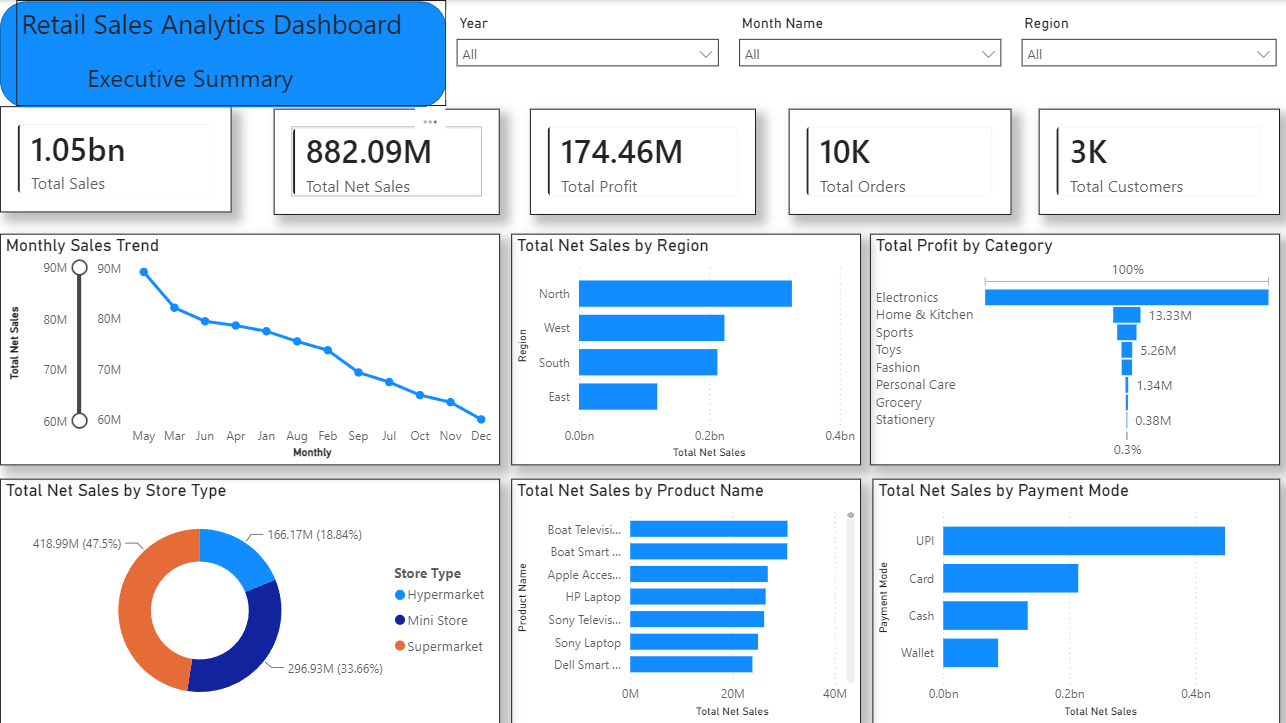

The page's visual inventory and layout, read from the dashboard file:
{"tool":"powerbi","page":{"name":"Page 1","canvas":[1280,720],"ordinal":0},"visuals":[{"type":"cardVisual","fields":{"Data":["Sales.Total Sales"]},"box":[0,105.7,230.1,105.7],"z":0},{"type":"cardVisual","fields":{"Data":["Sales.Total Net Sales"]},"box":[272.4,108.2,225.2,105.7],"z":1000},{"type":"cardVisual","fields":{"Data":["Sales.Total Customers"]},"box":[1033.7,108.2,240.1,105.7],"z":2000},{"type":"cardVisual","fields":{"Data":["Sales.Total Orders"]},"box":[784.9,108.2,221.4,105.7],"z":3000},{"type":"cardVisual","fields":{"Data":["Sales.Total Profit"]},"box":[527.4,108.2,225.2,105.7],"z":4000},{"type":"shape","box":[0,1.2,444.1,105.7],"z":5000},{"type":"textbox","box":[16.2,0,427.9,105.7],"z":6000},{"type":"funnel","fields":{"Category":["Products.Category"],"Y":["Sales.Total Profit"]},"box":[865.8,232.6,408,230.1],"z":7000},{"type":"clusteredBarChart","fields":{"Y":["Sales.Total Net Sales"],"Category":["Stores.Region"]},"box":[508.8,232.6,348.3,230.1],"z":8000},{"type":"clusteredBarChart","fields":{"Y":["Sales.Total Net Sales"],"Category":["Sales.Payment Mode"]},"box":[868.3,476.4,405.5,243.8],"z":9000},{"type":"clusteredBarChart","fields":{"Y":["Sales.Total Net Sales"],"Category":["Products.Product Name"]},"box":[508.8,476.4,348.3,243.8],"z":10000},{"type":"donutChart","fields":{"Y":["Sales.Total Net Sales"],"Series":["Stores.Store Type"]},"box":[0,476.4,497.6,243.8],"z":11000},{"type":"lineChart","title":"Monthly Sales Trend","fields":{"Y":["Sales.Total Net Sales"],"Category":["Date Table.Month Short"]},"box":[0,232.6,497.6,230.1],"z":12000},{"type":"slicer","fields":{"Values":["Date Table.Year"]},"box":[444.1,10,281.1,89.6],"z":13000},{"type":"slicer","fields":{"Values":["Date Table.Month Name"]},"box":[725.2,10,281.1,89.6],"z":14000},{"type":"slicer","fields":{"Values":["Stores.Region"]},"box":[1006.4,10,273.7,89.6],"z":15000}]}

Visuals, with their boxes in screenshot pixels (x1, y1, x2, y2), scaled from the page's 1280x720 canvas onto the 1286x723 screenshot:
cardVisual - Sales.Total Sales: (left=0, top=106, right=231, bottom=212)
cardVisual - Sales.Total Net Sales: (left=274, top=109, right=500, bottom=215)
cardVisual - Sales.Total Customers: (left=1039, top=109, right=1280, bottom=215)
cardVisual - Sales.Total Orders: (left=789, top=109, right=1011, bottom=215)
cardVisual - Sales.Total Profit: (left=530, top=109, right=756, bottom=215)
shape: (left=0, top=1, right=446, bottom=107)
textbox: (left=16, top=0, right=446, bottom=106)
funnel - Products.Category x Sales.Total Profit: (left=870, top=234, right=1280, bottom=465)
clusteredBarChart - Sales.Total Net Sales x Stores.Region: (left=511, top=234, right=861, bottom=465)
clusteredBarChart - Sales.Total Net Sales x Sales.Payment Mode: (left=872, top=478, right=1280, bottom=722)
clusteredBarChart - Sales.Total Net Sales x Products.Product Name: (left=511, top=478, right=861, bottom=722)
donutChart - Sales.Total Net Sales x Stores.Store Type: (left=0, top=478, right=500, bottom=722)
"Monthly Sales Trend" lineChart: (left=0, top=234, right=500, bottom=465)
slicer - Date Table.Year: (left=446, top=10, right=729, bottom=100)
slicer - Date Table.Month Name: (left=729, top=10, right=1011, bottom=100)
slicer - Stores.Region: (left=1011, top=10, right=1285, bottom=100)
